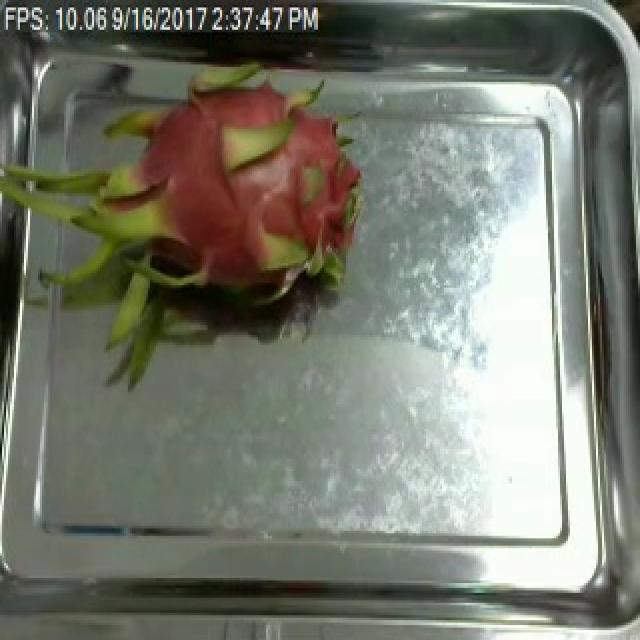fruit: (0, 8, 390, 384)
